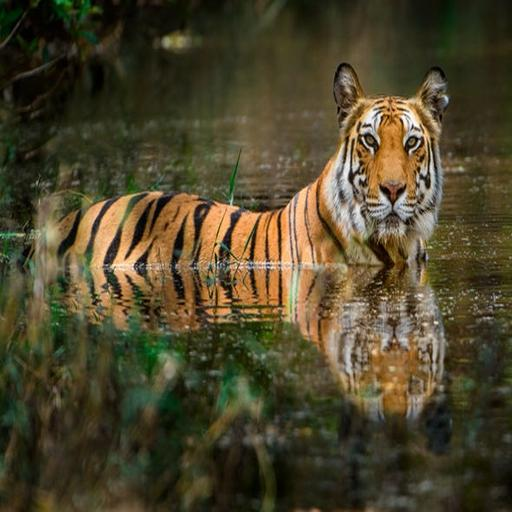Tiger: (1, 58, 465, 339)
